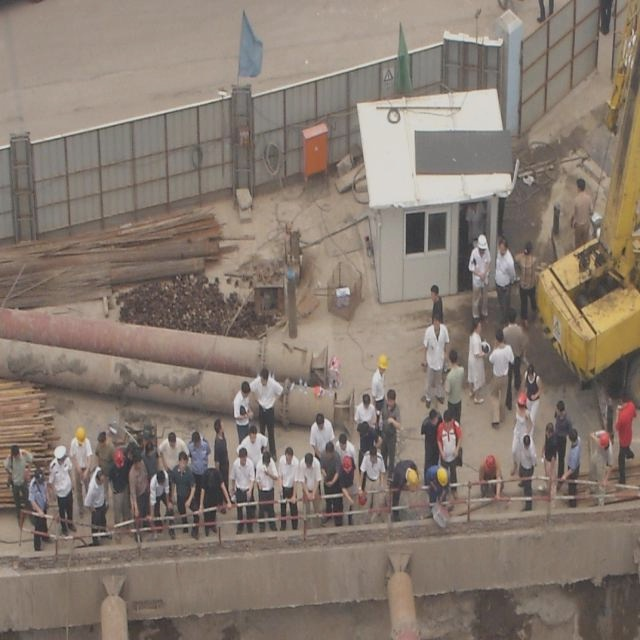Con_Casco: (437, 467, 448, 489), (76, 425, 86, 447), (477, 234, 487, 255), (379, 354, 388, 375)
Sin_Casco_Mascarrilla: (386, 388, 396, 410), (429, 283, 439, 304), (259, 367, 269, 386), (315, 412, 324, 431)
Sin_Chaleco: (445, 364, 464, 408)
